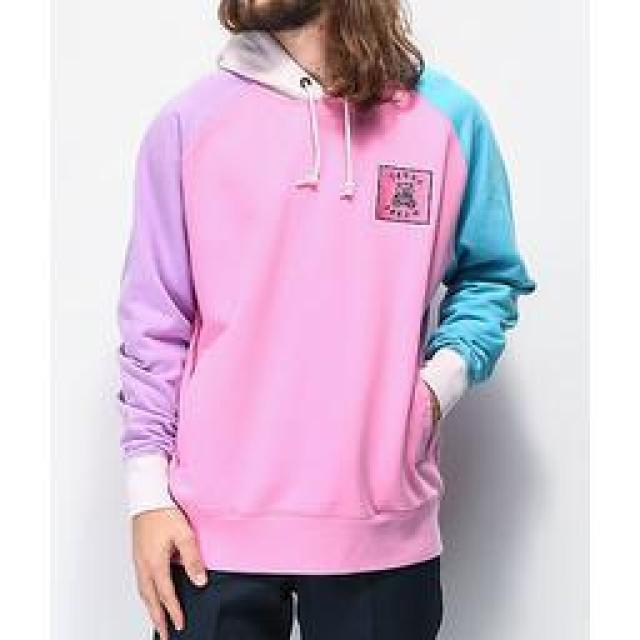sweater: (113, 26, 535, 576)
